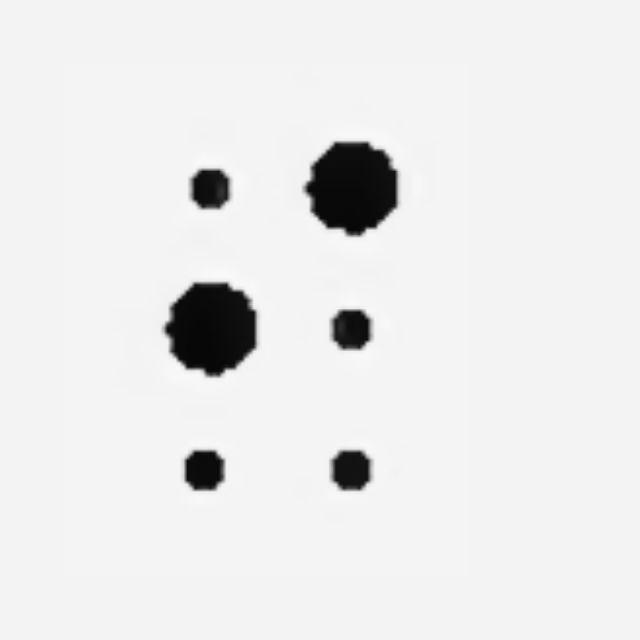ikaw: (164, 140, 397, 528)
